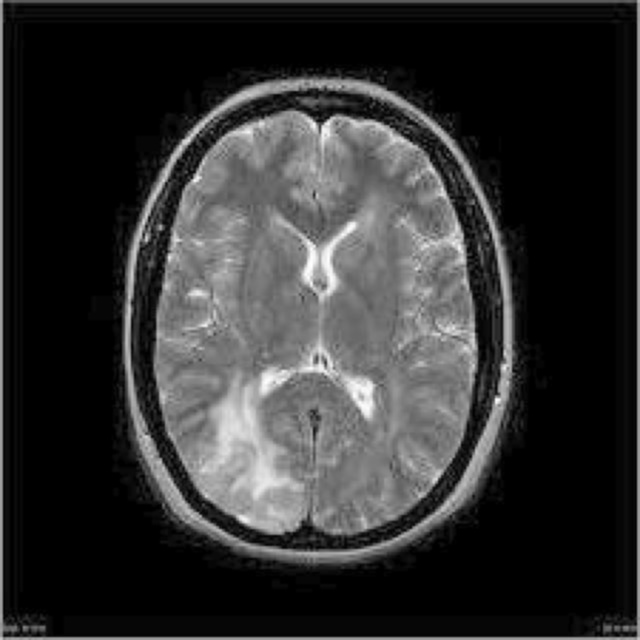glioma tumor: (185, 128, 435, 495)
